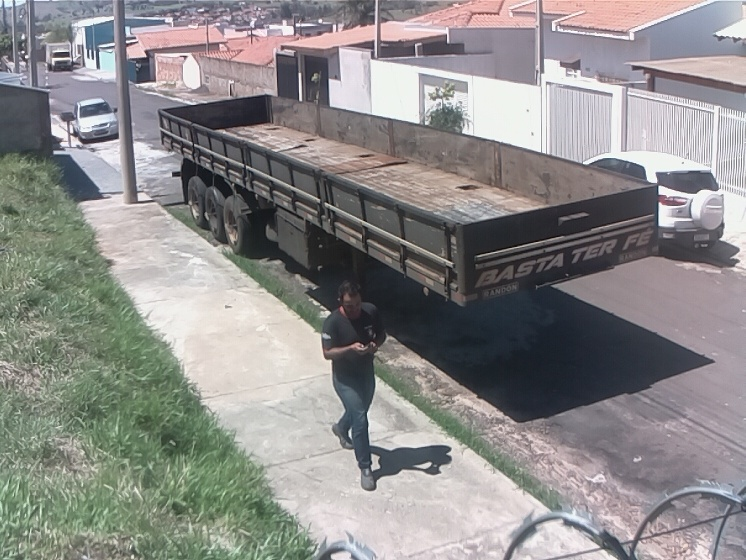person: (318, 278, 390, 496)
